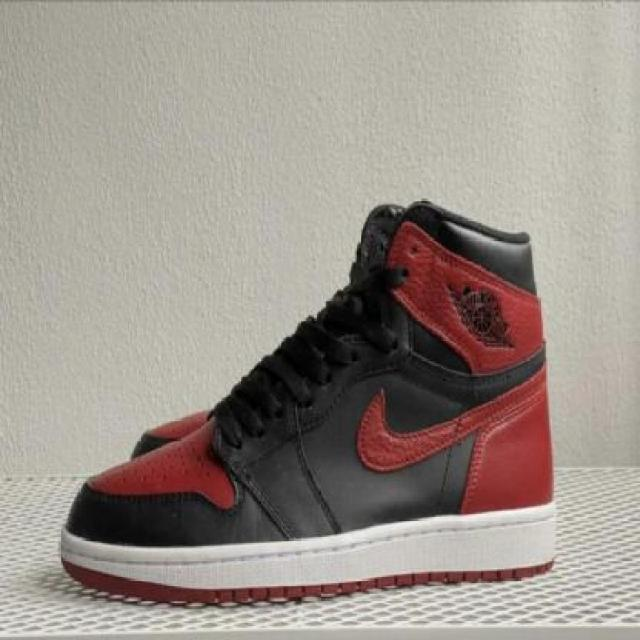shoe: (56, 195, 558, 612)
